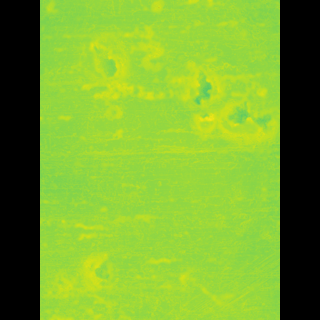Loch: (203, 85, 247, 145), (101, 31, 131, 85), (174, 62, 202, 107), (104, 253, 128, 292), (184, 107, 201, 136), (77, 272, 96, 294)
